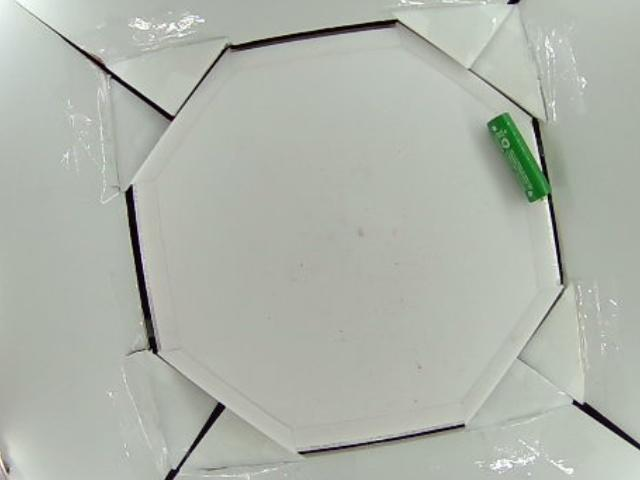Battery: (486, 112, 551, 204)
